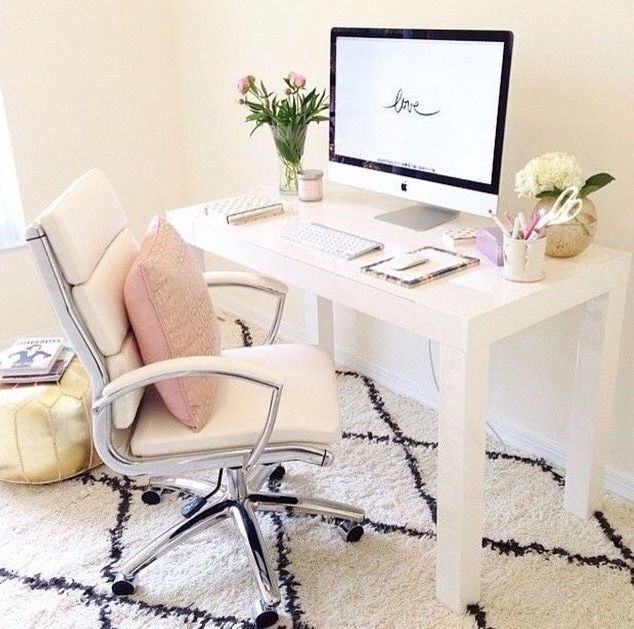chairs: (12, 168, 369, 629)
